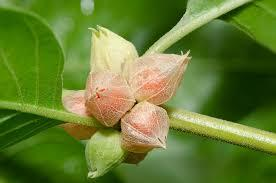healthy_leaf: (2, 0, 270, 178)
